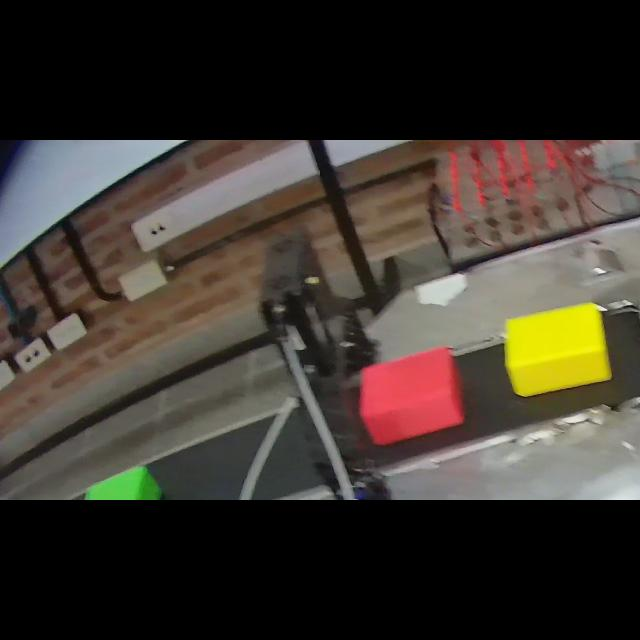greenBox: (78, 460, 164, 500)
redBox: (355, 341, 467, 451)
yellowBox: (498, 296, 616, 402)
